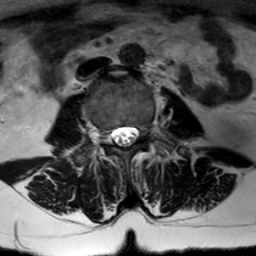CCS_normal: (120, 114, 130, 157)
LFS_normal: (139, 108, 150, 147)
LLS_normal: (130, 113, 140, 151)
RFS_normal: (99, 116, 110, 151)
RLS_normal: (110, 116, 120, 151)
